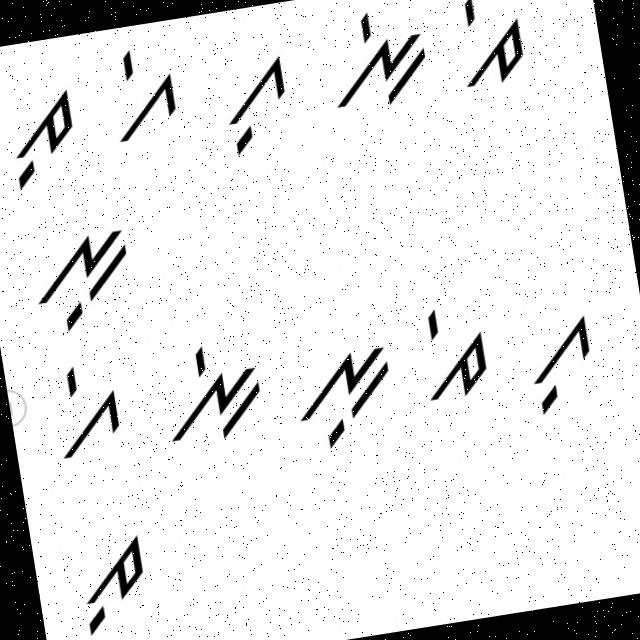ge: (43, 355, 130, 468), (100, 39, 186, 149)
gu: (518, 310, 610, 424), (214, 50, 304, 162)
nge: (317, 0, 437, 123), (151, 329, 272, 450)
ngu: (25, 223, 146, 340), (287, 330, 403, 452)
te: (399, 296, 502, 412), (444, 0, 540, 97)
tu: (0, 72, 90, 197), (69, 528, 162, 639)
